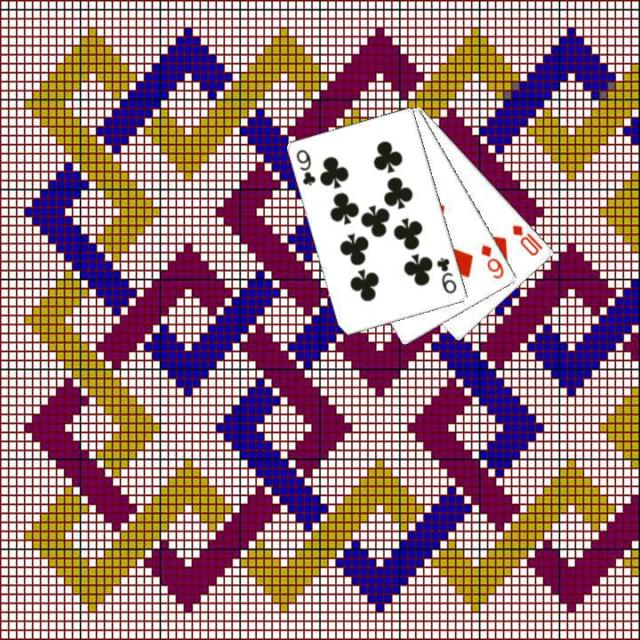10D: (508, 220, 545, 258)
6D: (477, 241, 506, 281)
9C: (433, 253, 459, 296), (292, 146, 318, 188)
